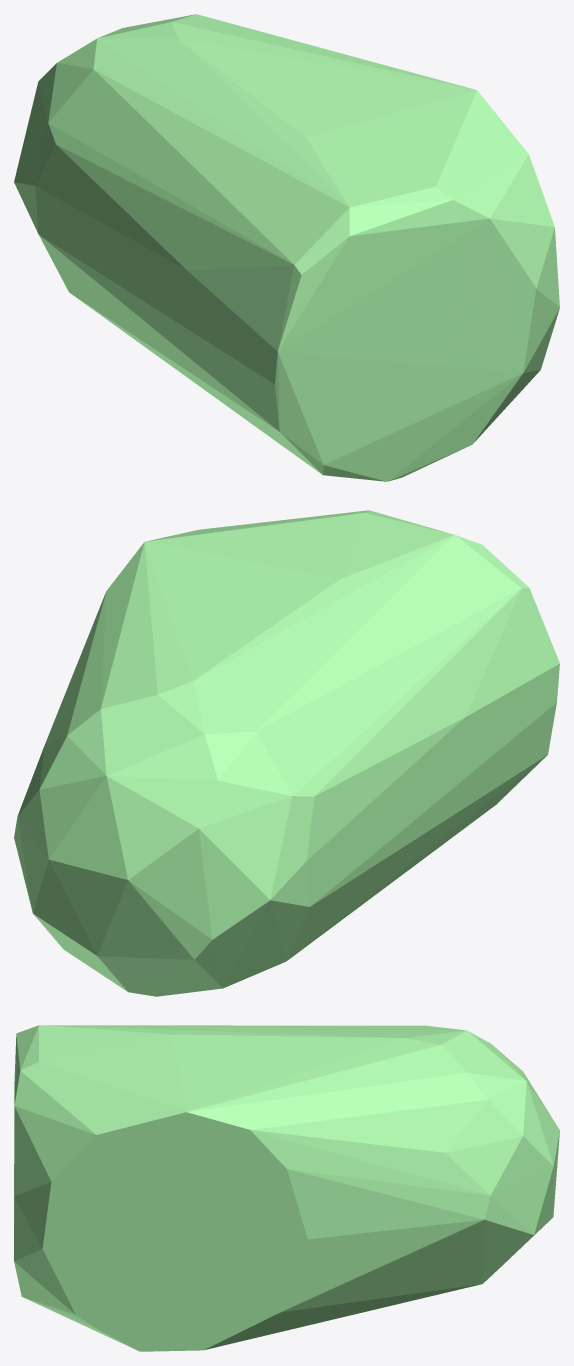
The model's file is dvkr_robot_L_link4_respondable_coll_1.dae.
The picture shows the model from 3 angles, top to bottom: view 1: azimuth 30°, elevation 25°; view 2: azimuth 150°, elevation 25°; view 3: azimuth 270°, elevation 25°; orthographic projection. The views are drawn at different scales.
Parts seen in each view (by area): view 1: Node_0000023514CD6E10; view 2: Node_0000023514CD6E10; view 3: Node_0000023514CD6E10.
Boxes of the visible parts, x1,y1,x2,y2 form: Node_0000023514CD6E10: (14,14,559,481); Node_0000023514CD6E10: (14,510,559,996); Node_0000023514CD6E10: (14,1025,559,1351).
Bounding box in the file's own units: 0.1174 × 0.1063 × 0.2138.
